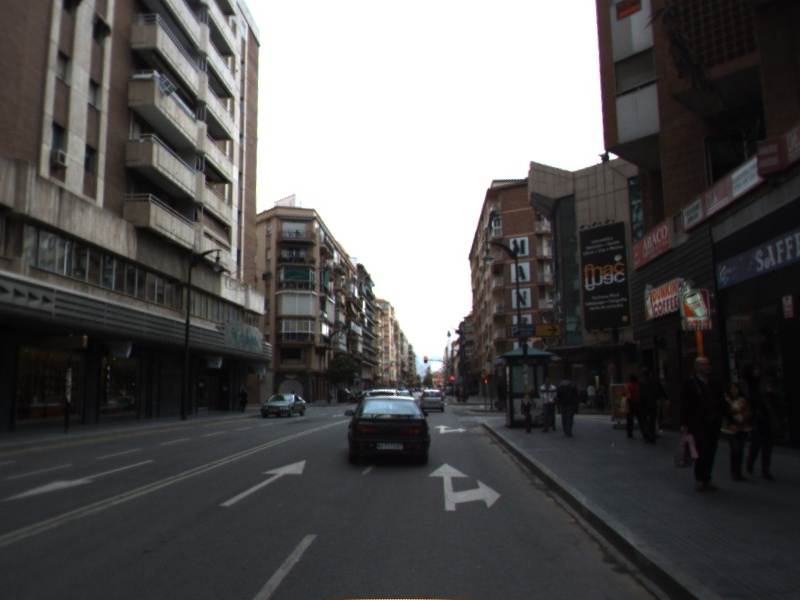STRAIGHT: (216, 457, 309, 508)
STRAIGHT_RIGHT: (425, 461, 504, 513), (432, 423, 469, 435)
